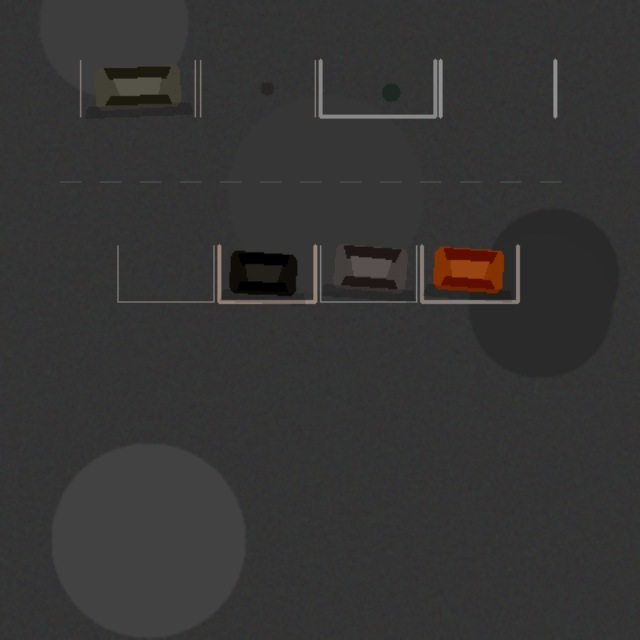space-empty: (200, 60, 315, 116), (320, 60, 435, 116), (440, 60, 555, 116), (117, 245, 213, 301)
space-occupied: (80, 60, 195, 116), (219, 245, 315, 301), (320, 245, 416, 301), (421, 245, 517, 301)
